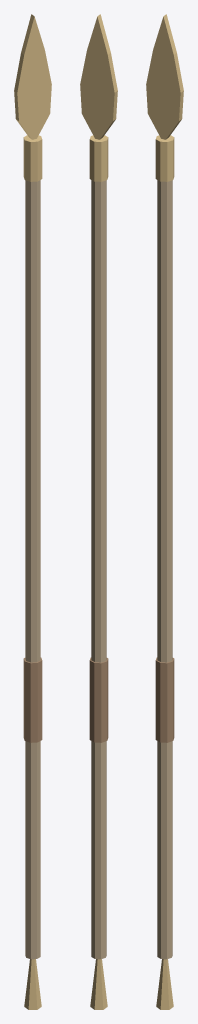
The model's file is Spear.gltf.
3 views of the same model, side by side, from view 1: azimuth 30°, elevation 25°; view 2: azimuth 150°, elevation 25°; view 3: azimuth 330°, elevation 25° (orthographic).
Parts seen in each view (by area): view 1: Spear; view 2: Spear; view 3: Spear.
Part boxes in pixels (left/top/right/bottom): Spear: left=14, top=14, right=51, bottom=1009; Spear: left=80, top=14, right=117, bottom=1009; Spear: left=146, top=14, right=183, bottom=1009.
Bounding box in the file's own units: 0.1 × 2.74 × 0.048.
